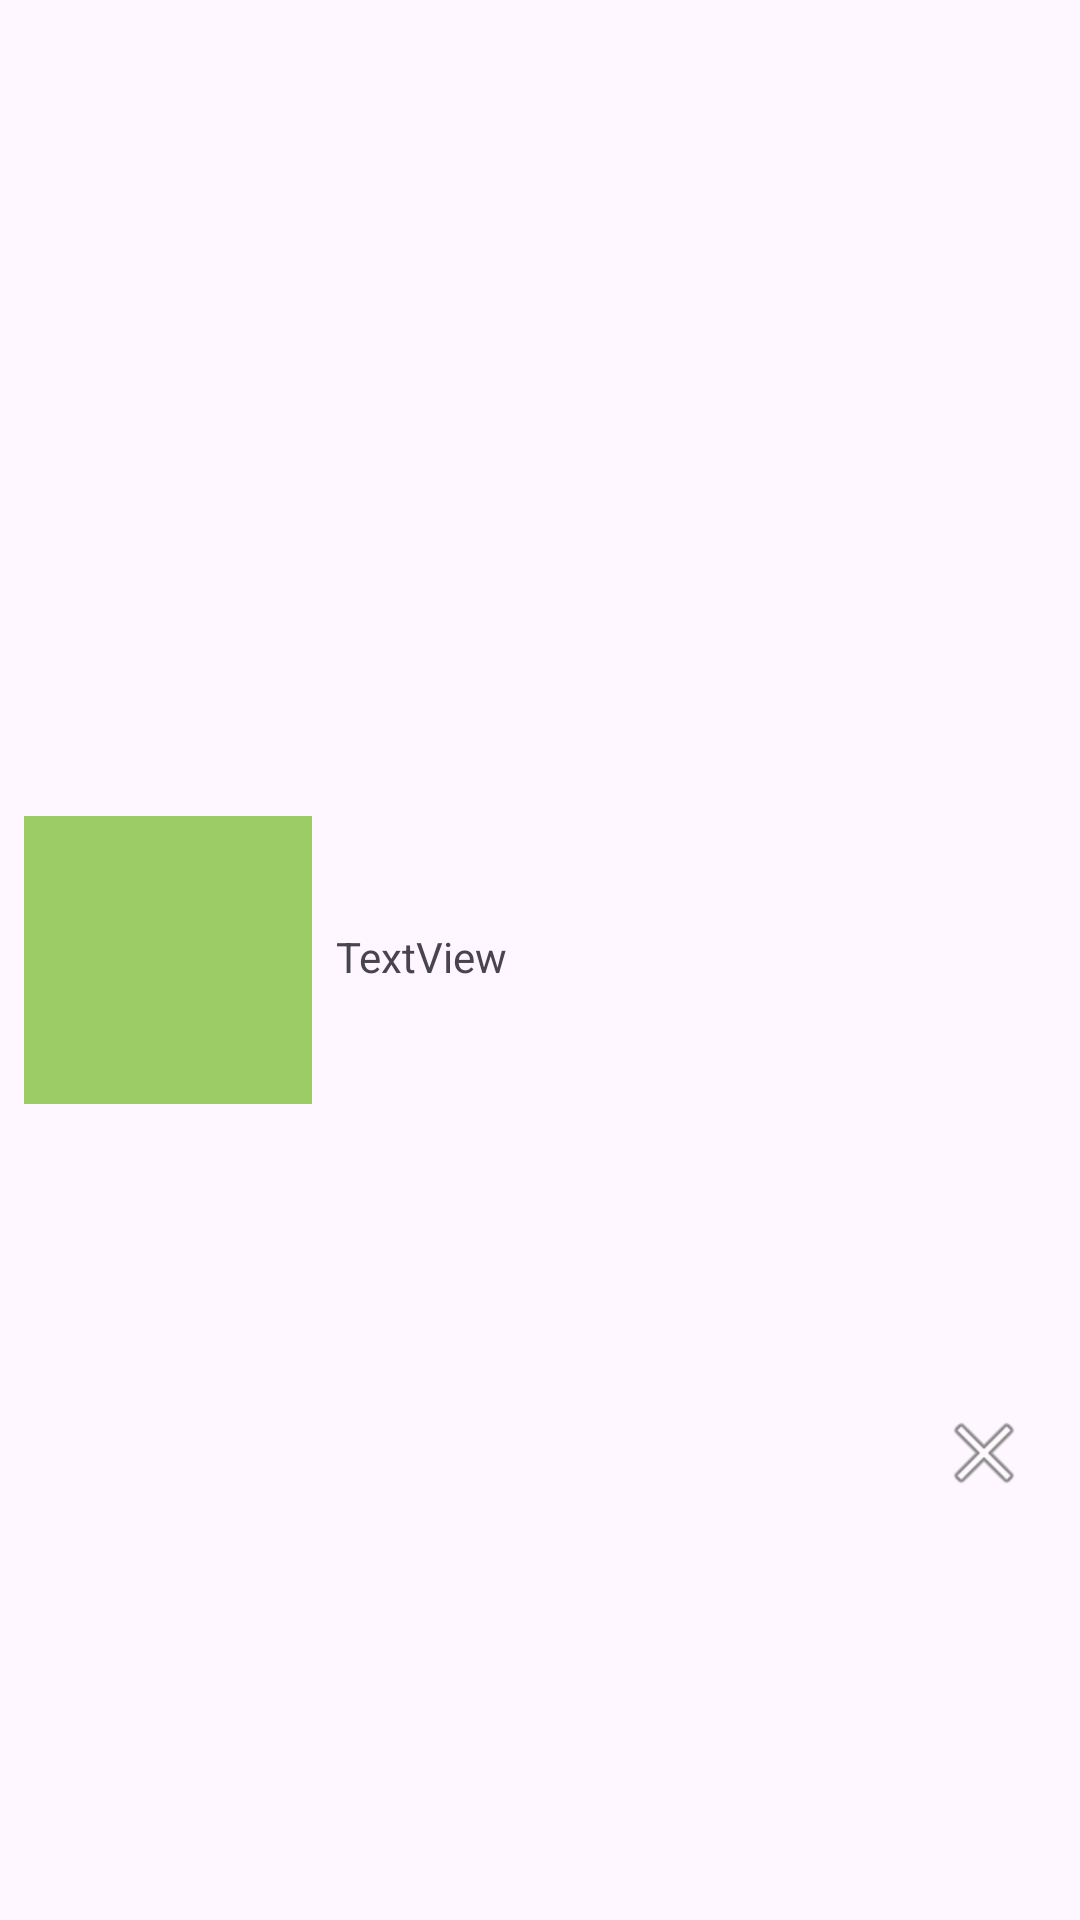

Named icons in this screenshot (1080px×1920px) and their bounding boxes, box=[x1, y1, x2, y2]:
close clear cancel: box=[954, 1423, 1014, 1483]
